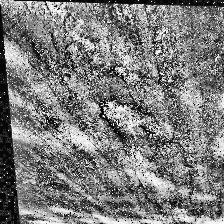pothole: (91, 91, 158, 151)
